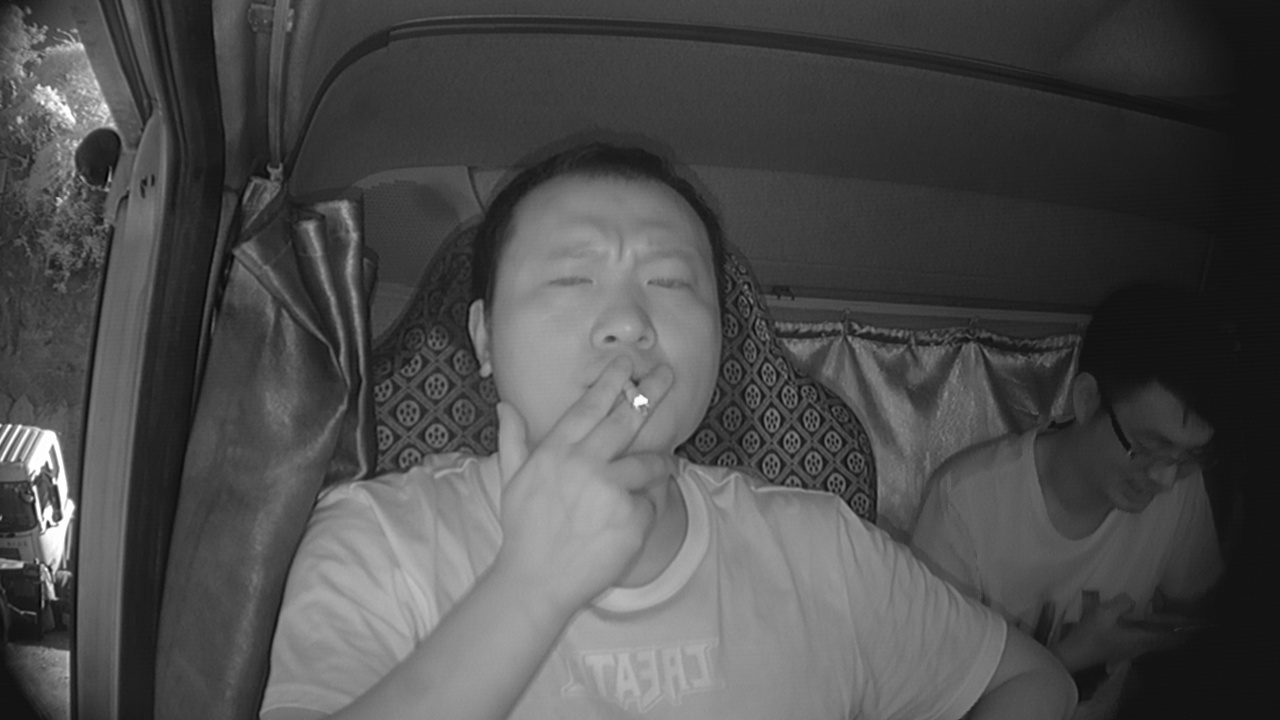hand: (540, 365, 680, 560)
